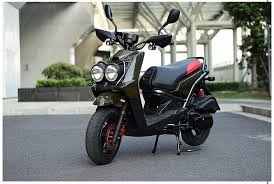motorcycle: (82, 3, 220, 167)
